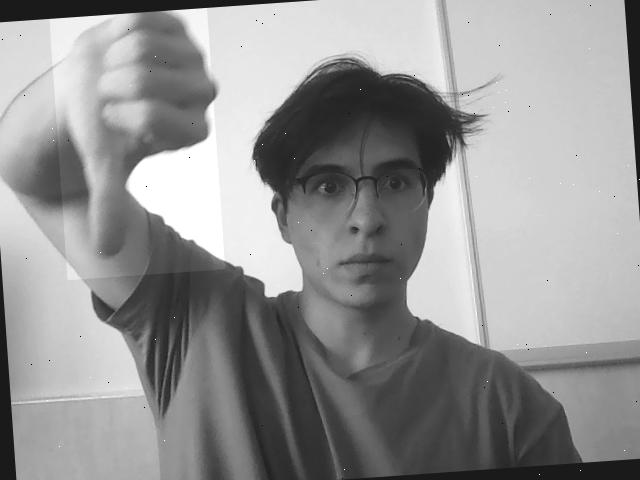bad: (49, 8, 225, 280)
